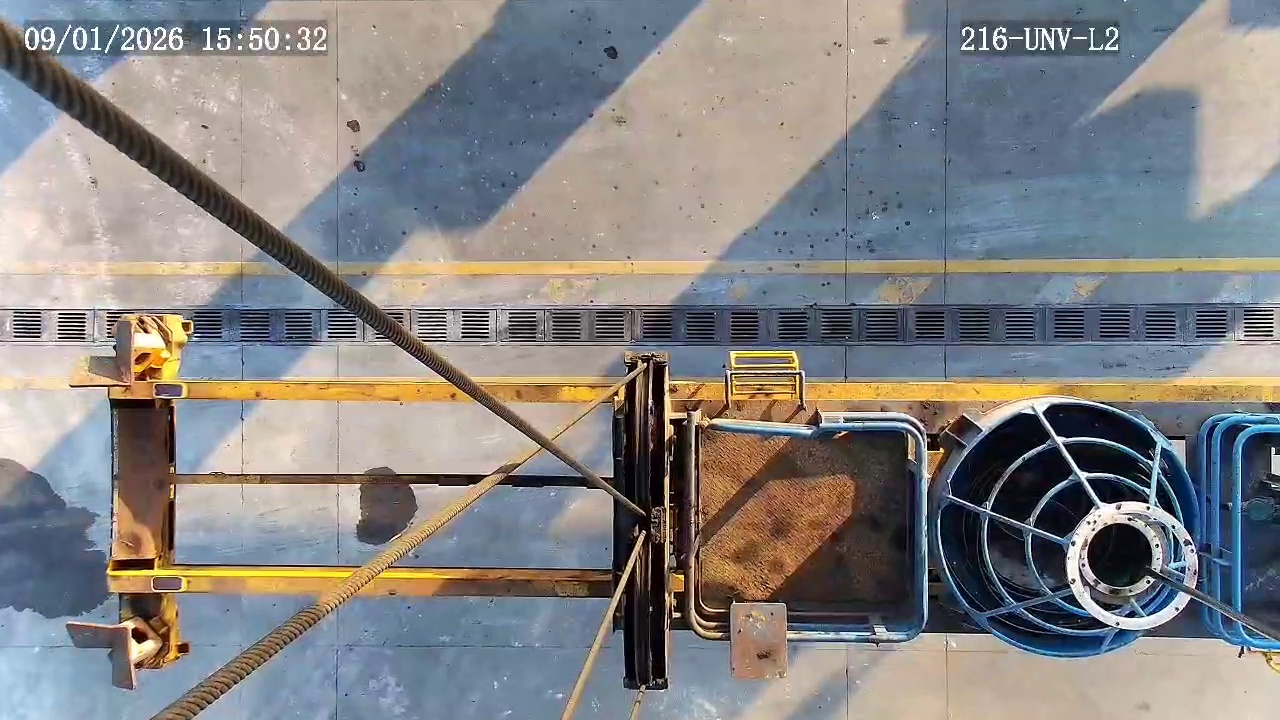left: (937, 402, 1202, 657)
